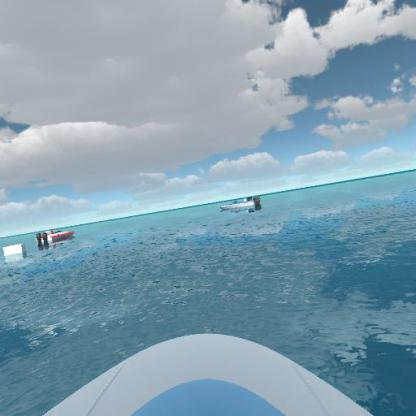usv1: (219, 194, 266, 214)
usv3: (30, 222, 82, 250)
